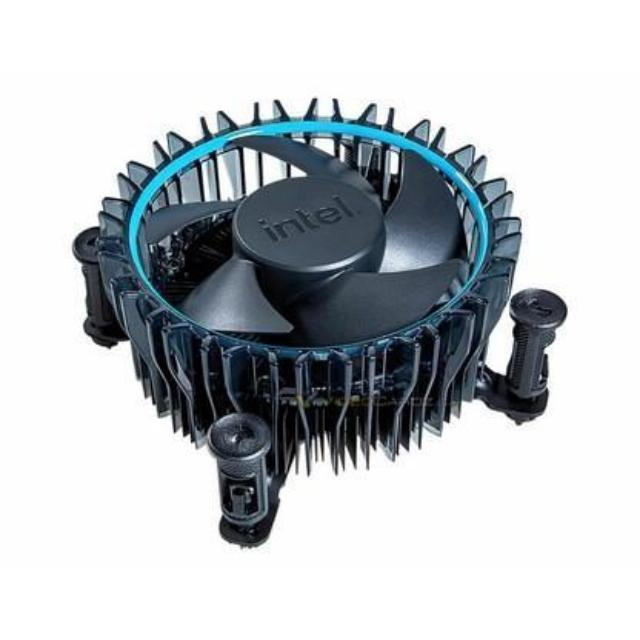CPU_Fan: (73, 91, 564, 528)
